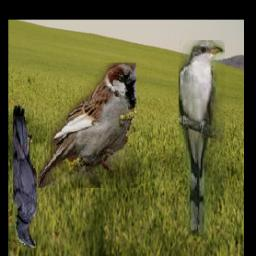Crow: (13, 106, 37, 248)
Cuckoo: (179, 40, 225, 236)
Sparrow: (37, 63, 135, 188)
